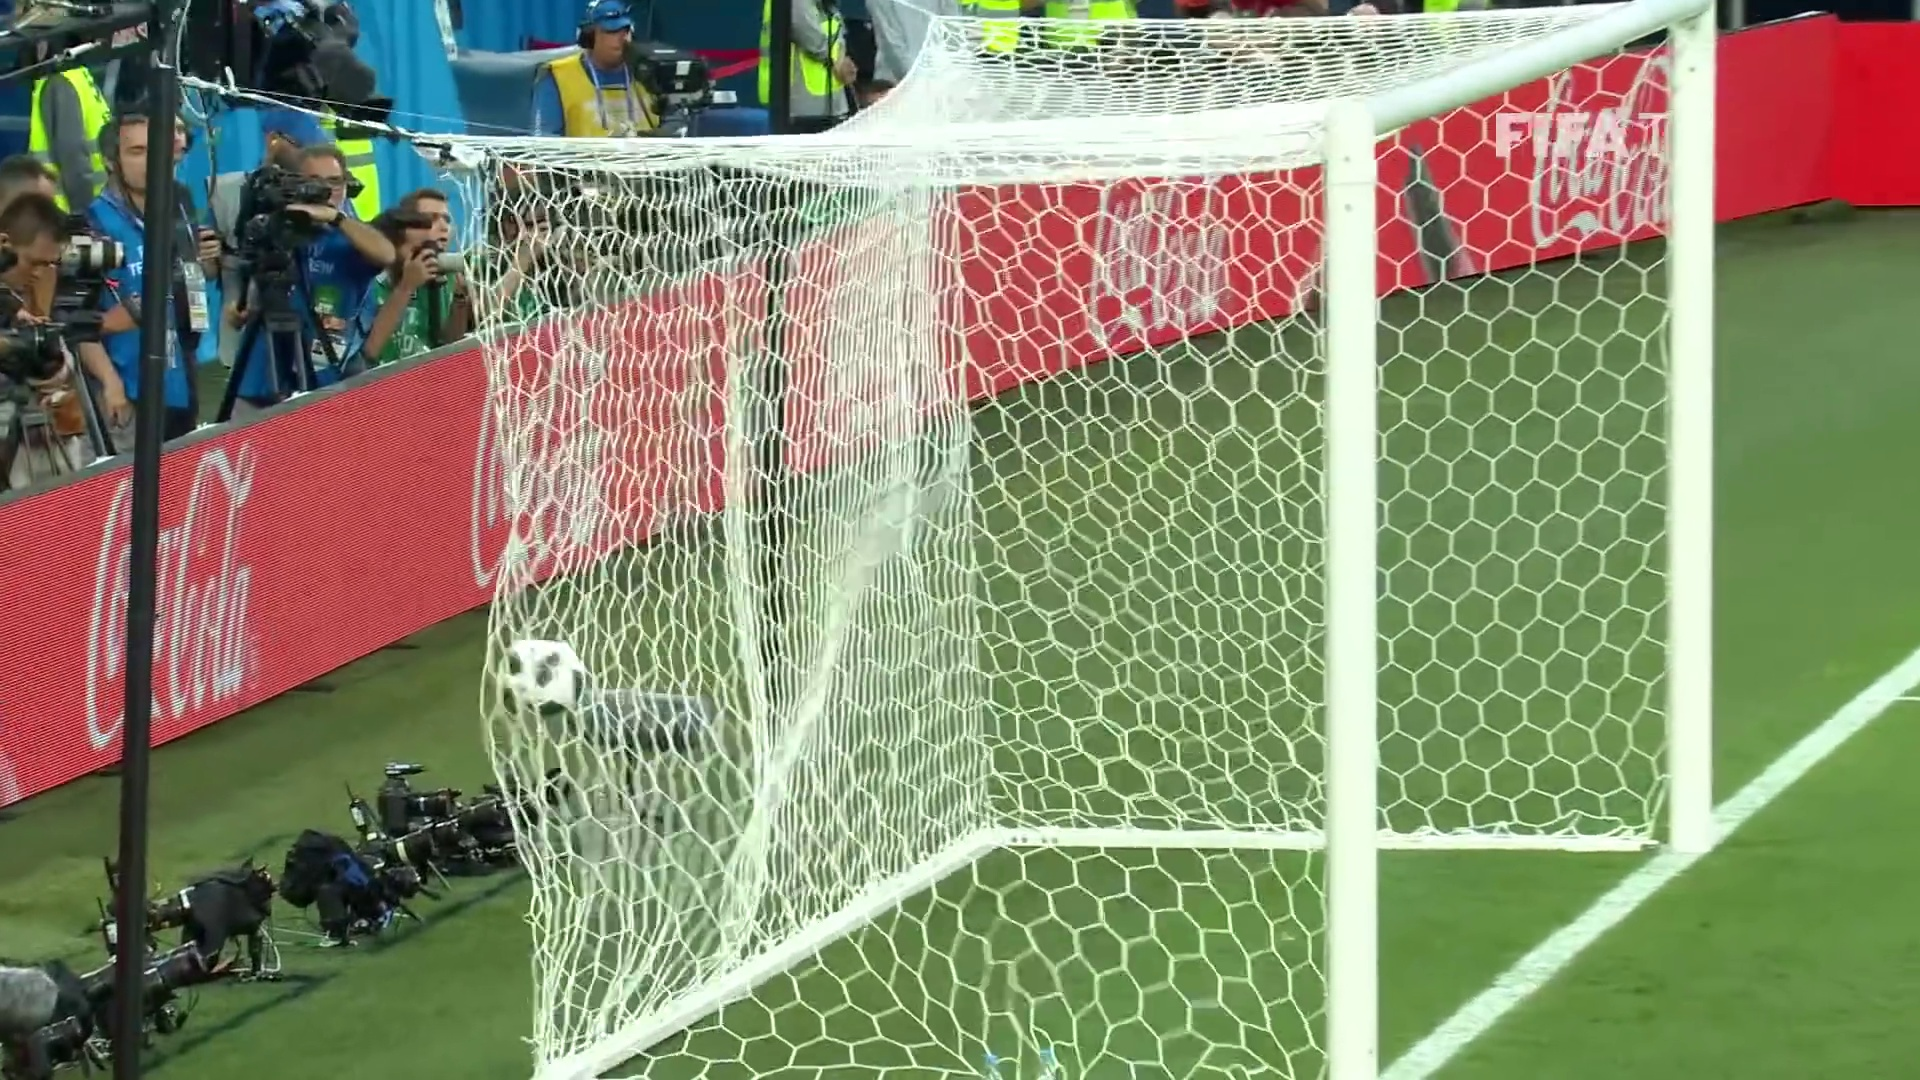ball: (502, 640, 582, 713)
